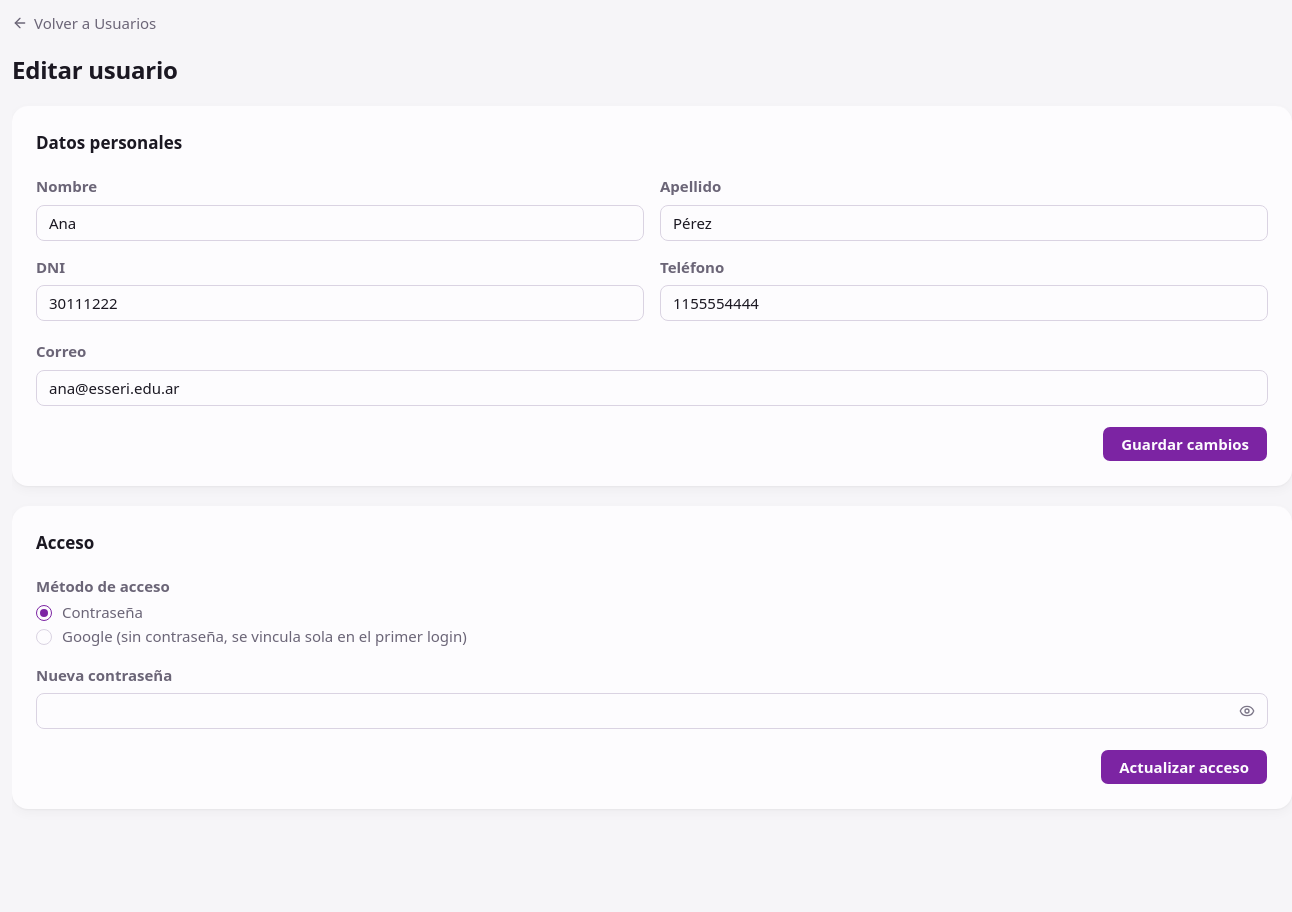
Test: UsuarioEdicionPage › exige una contraseña de al menos 12 caracteres para resetearla
The image size is (1292, 912).
Expected: the field showing "Ana" is shown, [36,205,644,241]
Type "corta" into the password field labelled "Nueva contraseña" at (636, 711), box [37,693,1235,729]
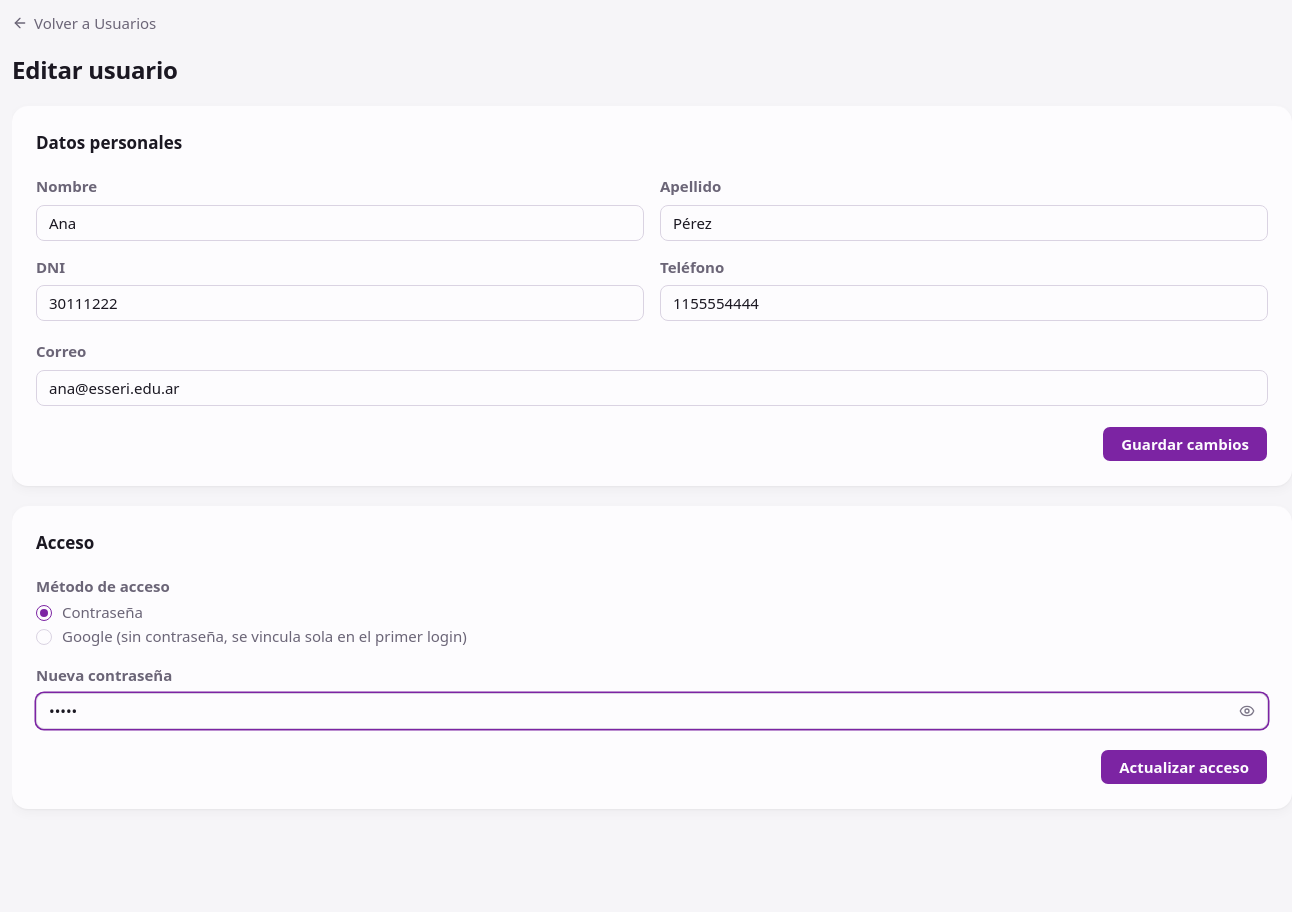
Click the button "Actualizar acceso" at (1184, 767), box [1100,749,1268,785]
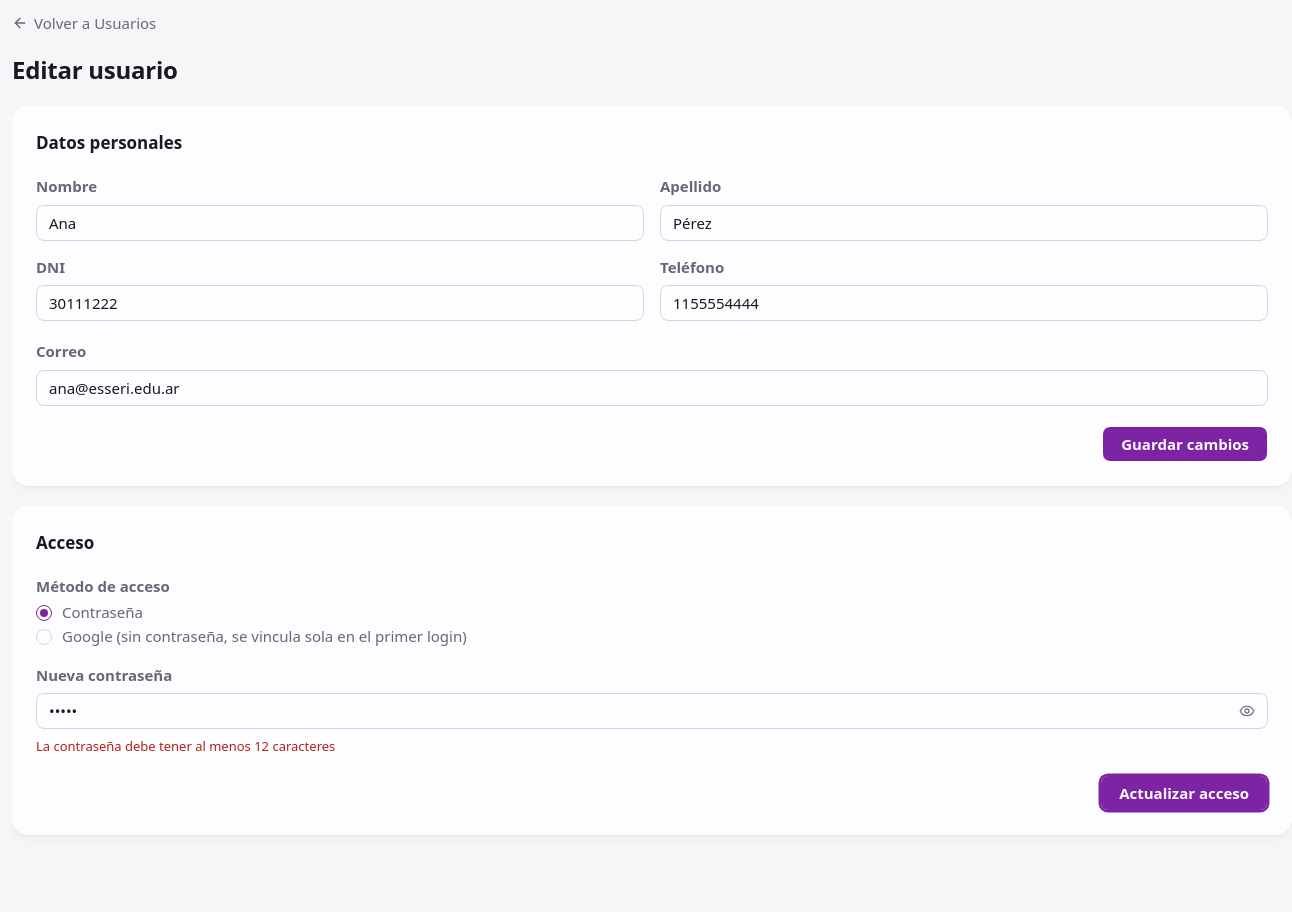
Expected: the text "La contraseña debe tener al menos 12 caracteres" is shown, [36,737,335,755]
